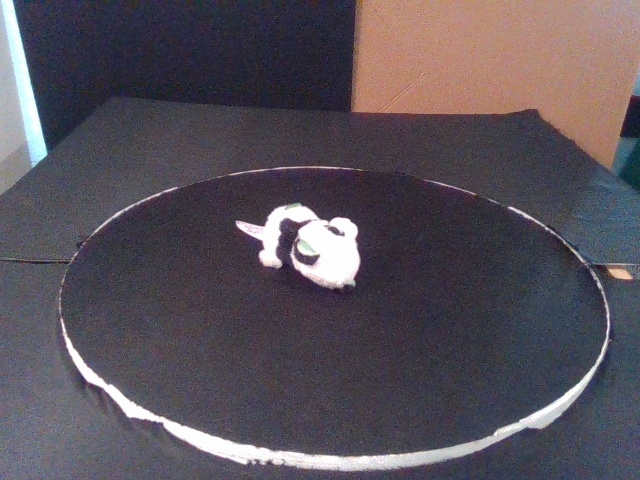teddy_bear: (257, 202, 362, 295)
